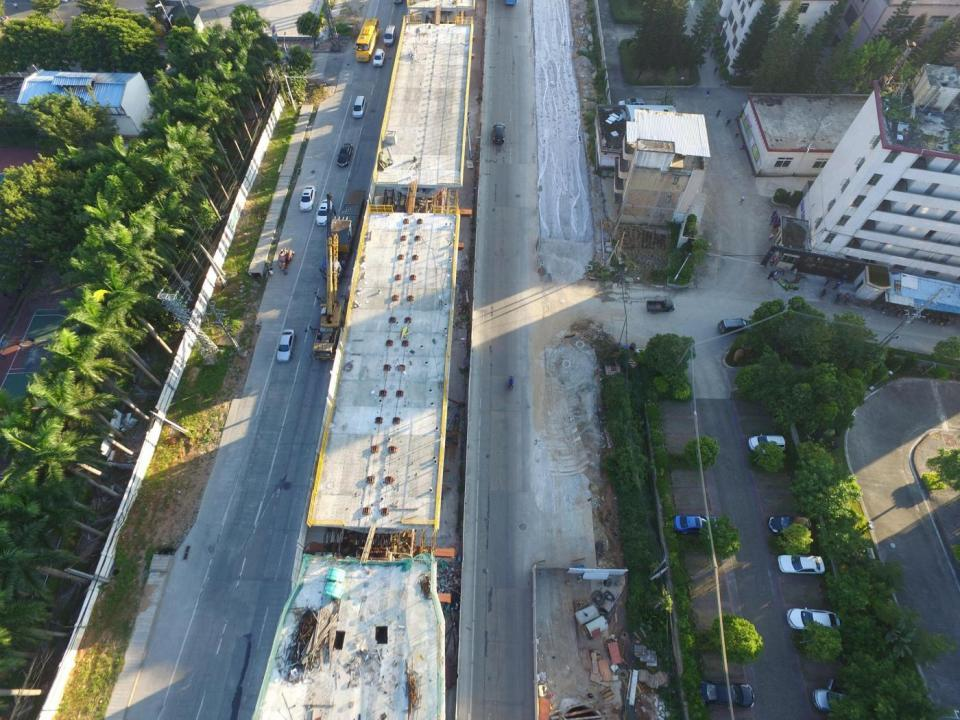bus: (352, 16, 380, 62)
car: (812, 677, 868, 716), (699, 680, 755, 710), (785, 605, 842, 632), (774, 550, 826, 574), (672, 511, 718, 534), (766, 514, 812, 534), (746, 431, 786, 452), (275, 327, 295, 365), (315, 197, 332, 227), (298, 184, 316, 212), (337, 144, 354, 168), (351, 95, 367, 118), (617, 97, 645, 110), (490, 121, 506, 143), (372, 48, 385, 66)
truck: (646, 296, 676, 314)
van: (716, 317, 753, 333), (383, 23, 396, 46)
